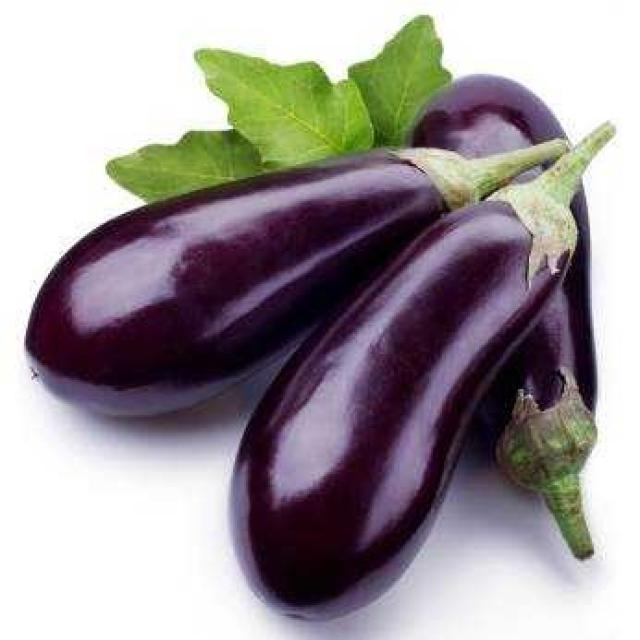Eggplant-r1Ob: (26, 140, 565, 414), (232, 201, 561, 617)
